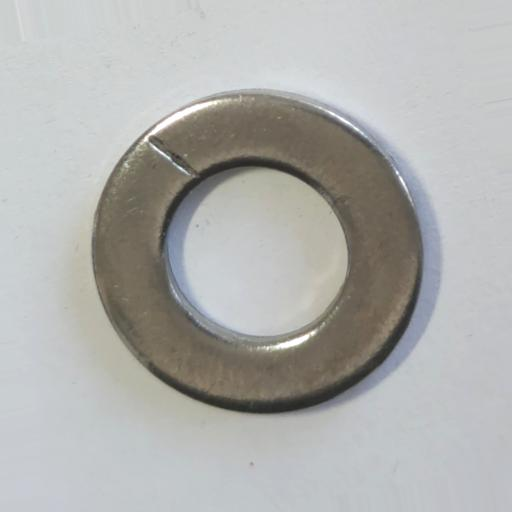scratch: (146, 136, 200, 177)
